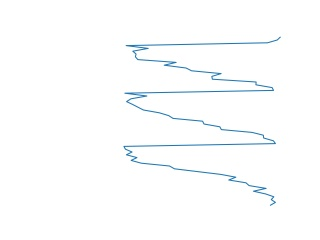distributaryMouthBar: (120, 36, 285, 207)
